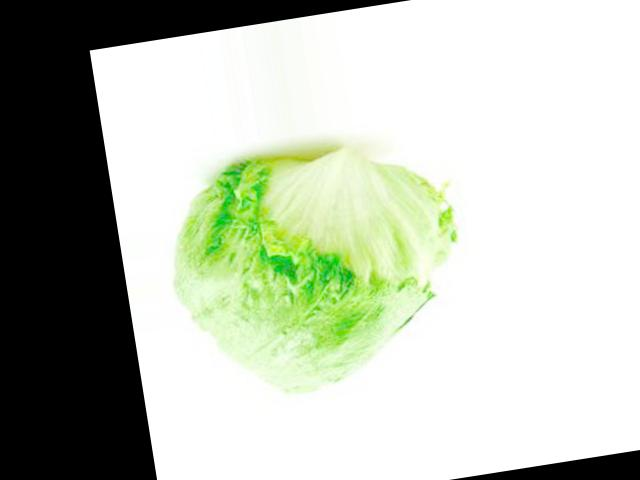lettuce: (445, 180, 587, 415)
